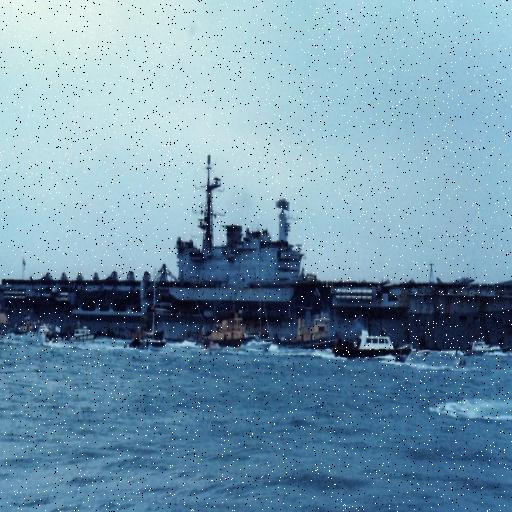Portanaves: (1, 153, 512, 371)
